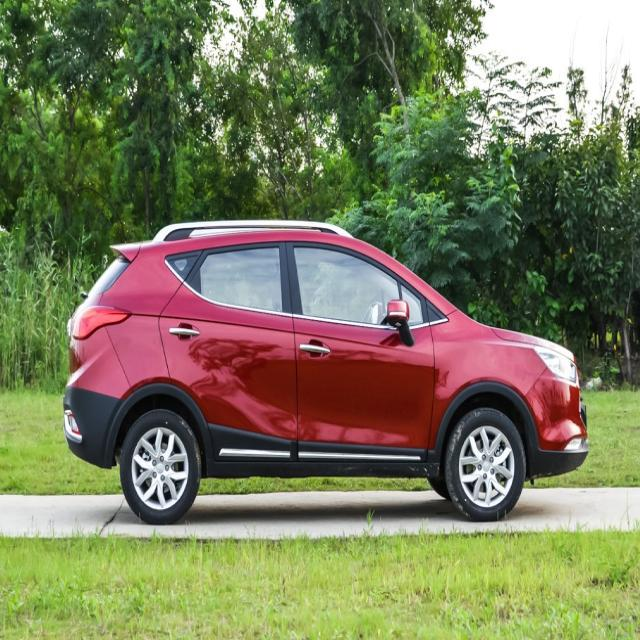back_right_side_light: (73, 304, 129, 344)
door: (159, 236, 299, 475)
front_bumper: (522, 367, 590, 482)
front_right_side_door: (283, 229, 437, 466)
front_right_side_light: (532, 340, 579, 388)
front_right_side_mirror: (386, 294, 411, 338)
rear_bumper: (65, 324, 133, 468)
wheel: (118, 410, 201, 520), (445, 408, 526, 520)
